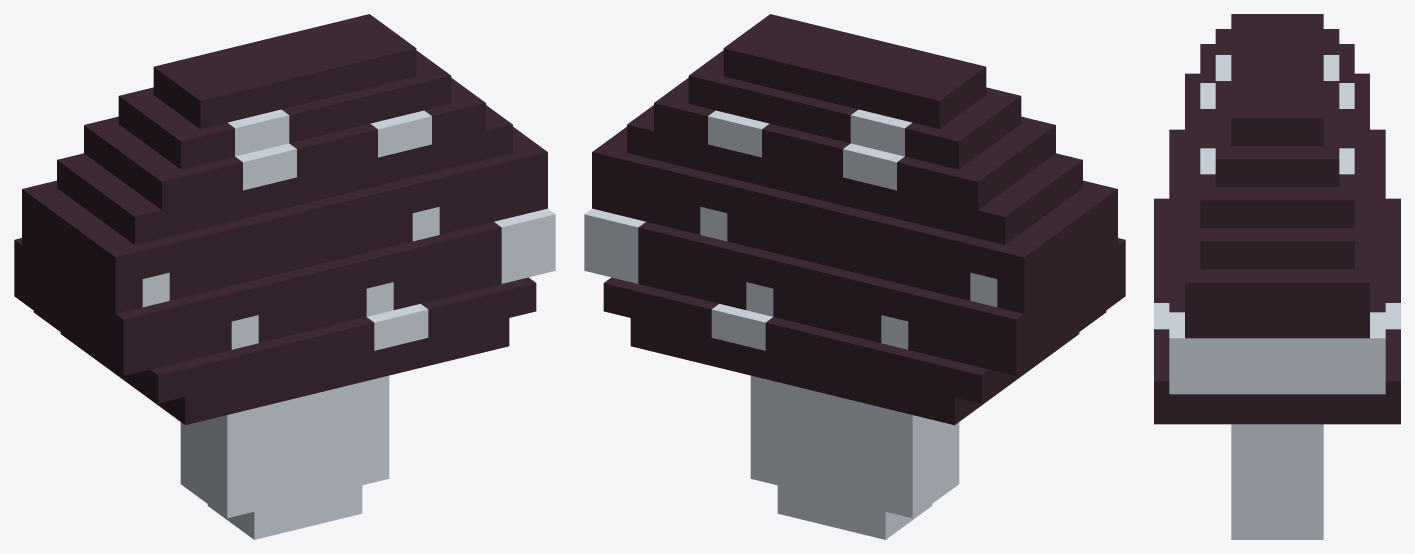
Rendered from Mushroom.fbx.
3 views of the same model, side by side, from view 1: azimuth 30°, elevation 25°; view 2: azimuth 150°, elevation 25°; view 3: azimuth 270°, elevation 25° (orthographic).
Visible parts, largest first — view 1: generated; view 2: generated; view 3: generated.
Boxes of the visible parts, x1,y1,x2,y2 form: generated: [14, 14, 555, 539]; generated: [584, 14, 1125, 539]; generated: [1154, 14, 1400, 539].
Size of the model in its own units: 160 by 160 by 80.
